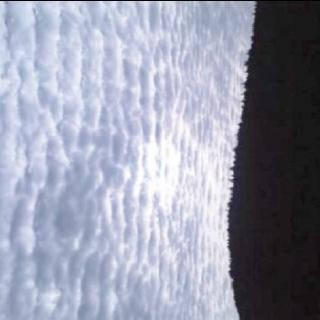Altocumulus: (1, 0, 264, 320)
